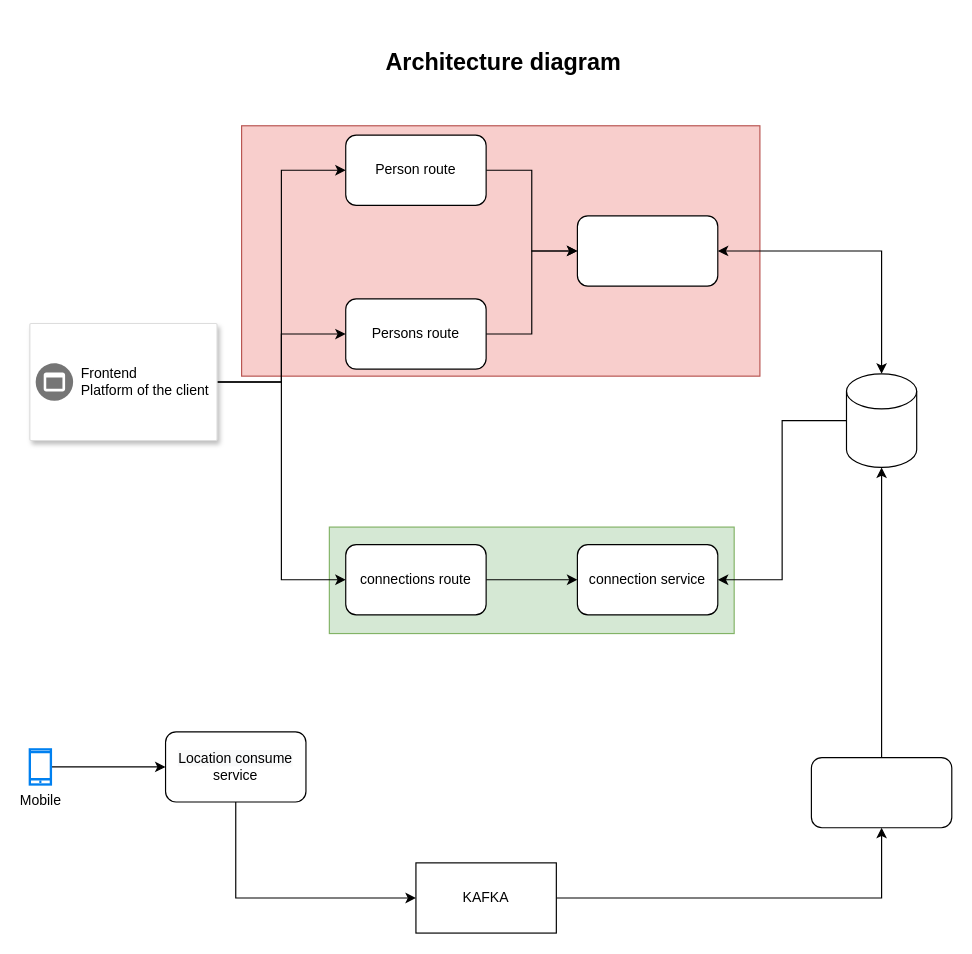
Image size: 972x954. Some labels were removed from this diagram. Here are the shapes that lost their labels. From the top down, the centre of each, then its label:
[647,250]: person service
[881,420]: database
[881,792]: Location servicce
